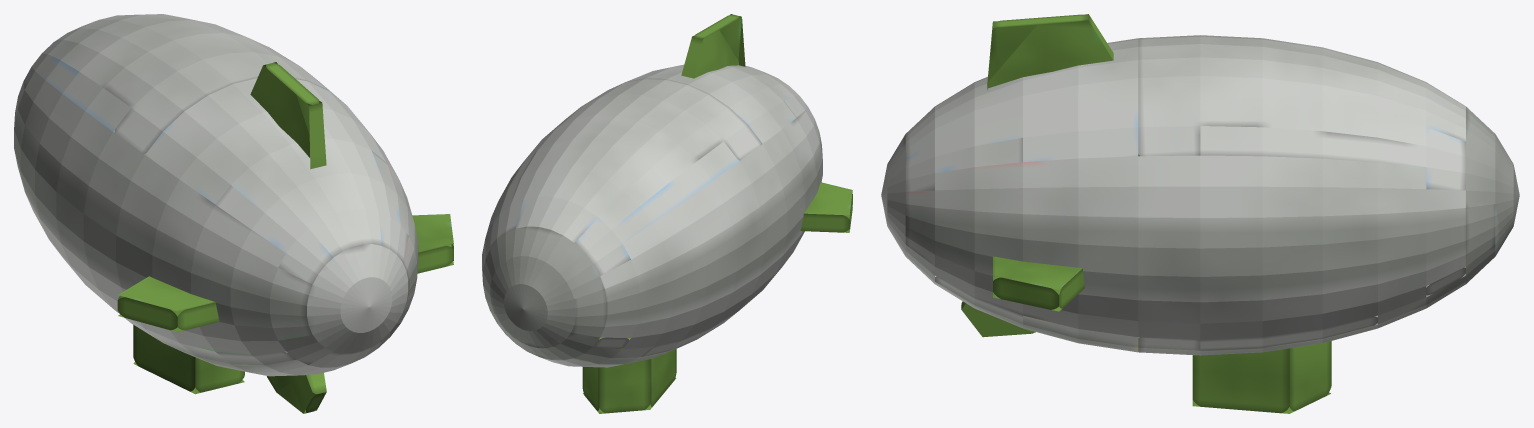
The model's file is spamBlimp.fbx.
The picture shows the model from 3 angles, left to right: view 1: azimuth 30°, elevation 25°; view 2: azimuth 150°, elevation 25°; view 3: azimuth 270°, elevation 25°; orthographic projection. The views are drawn at different scales.
Visible parts, largest first — view 1: blimpBall, top, leftwing, bottom, rightwing, butt; view 2: blimpBall, bottom, top, leftwing; view 3: blimpBall, bottom, top, rightwing, butt.
Part boxes in pixels (<box>): blimpBall: <box>14,14,418,376</box>; top: <box>250,62,326,169</box>; leftwing: <box>117,276,219,332</box>; bottom: <box>133,325,244,394</box>; rightwing: <box>412,214,453,273</box>; butt: <box>267,372,326,413</box>; blimpBall: <box>482,64,822,367</box>; bottom: <box>582,337,676,413</box>; top: <box>681,14,745,78</box>; leftwing: <box>800,182,852,232</box>; blimpBall: <box>881,35,1519,355</box>; bottom: <box>1192,340,1331,413</box>; top: <box>987,14,1139,156</box>; rightwing: <box>993,256,1084,311</box>; butt: <box>961,301,1035,337</box>.
Bounding box in the file's own units: 78.29 × 81.25 × 125.
Materials: 1 (1 with a texture image).
